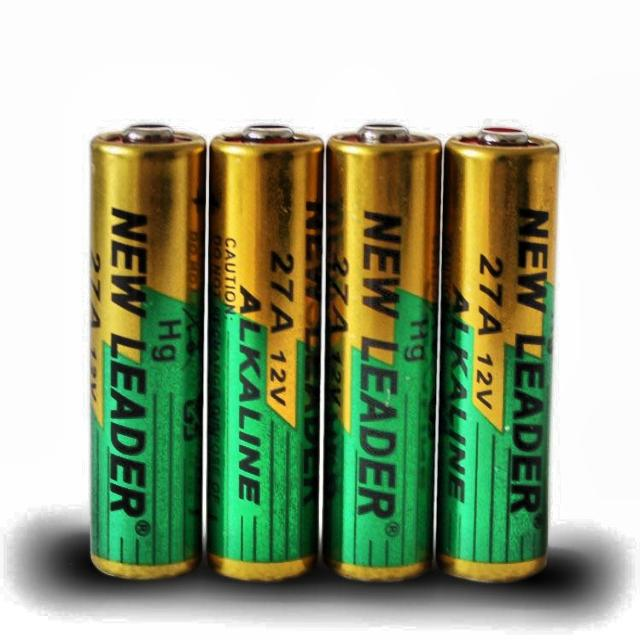Non-Valuable Waste - Batteries: (438, 128, 559, 582), (324, 125, 441, 581), (208, 125, 324, 581), (90, 125, 206, 579)
